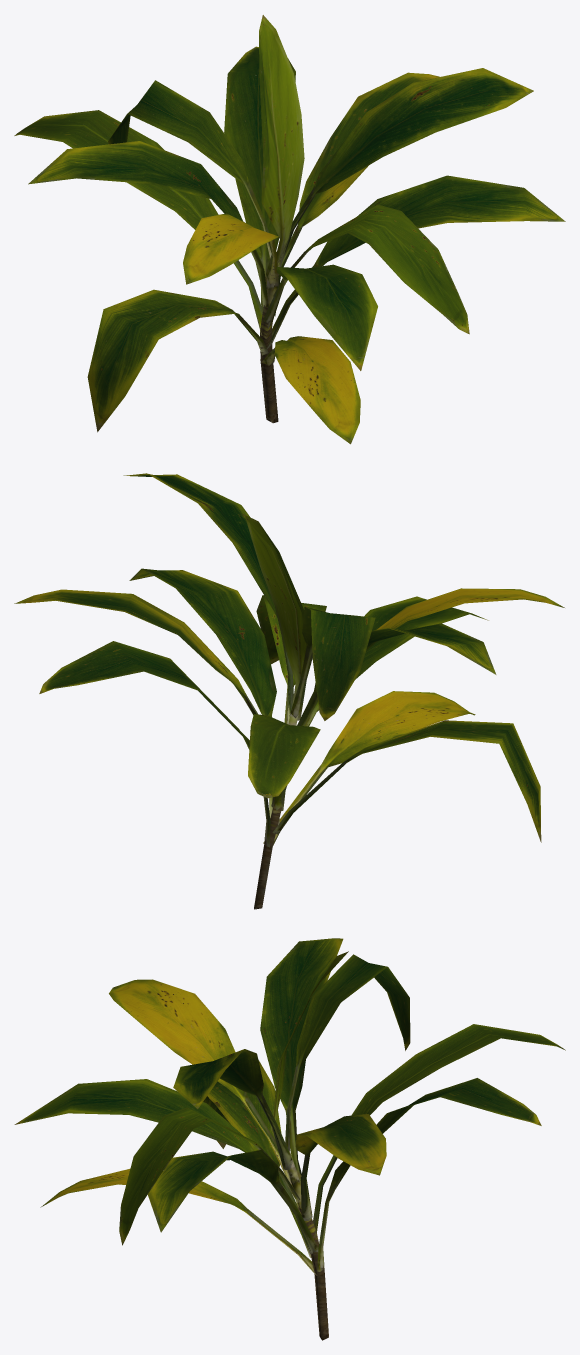
File: background_plant_8.glb
The picture shows the model from 3 angles, top to bottom: view 1: azimuth 30°, elevation 25°; view 2: azimuth 150°, elevation 25°; view 3: azimuth 270°, elevation 25°; orthographic projection. The views are drawn at different scales.
Parts seen in each view (by area): view 1: yes.1; view 2: yes.1; view 3: yes.1.
Boxes of the visible parts, x1,y1,x2,y2 form: yes.1: (14, 15, 565, 444); yes.1: (14, 473, 564, 909); yes.1: (14, 938, 565, 1340).
Size of the model in its own units: 4.37 by 3.69 by 4.75.
Materials: 1 (1 with a texture image).
